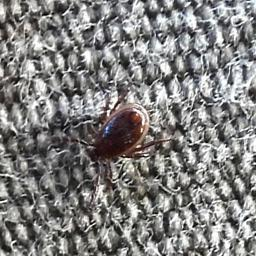Ixodes scapularis: (70, 91, 172, 210)
